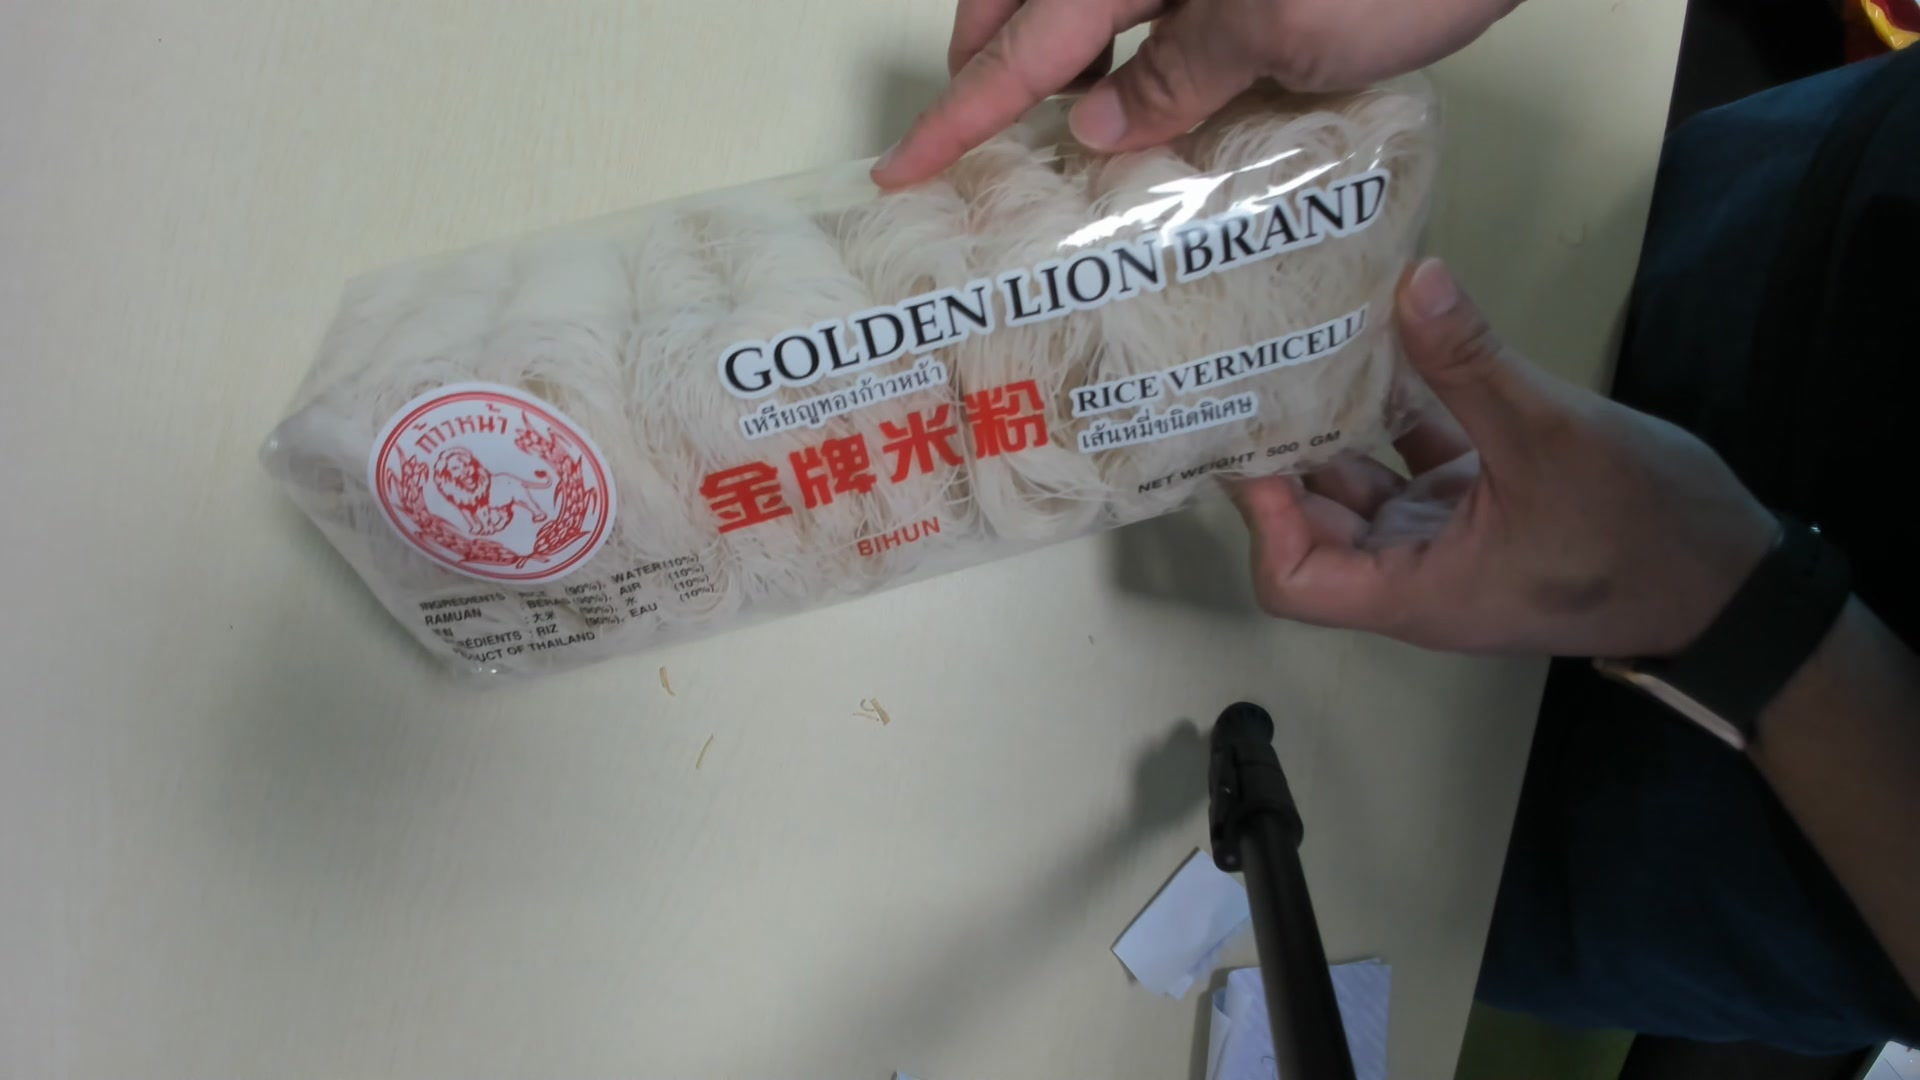BeeHoonVermicelli_500-599g_Halal_NonHealthy: (255, 84, 1433, 680)
